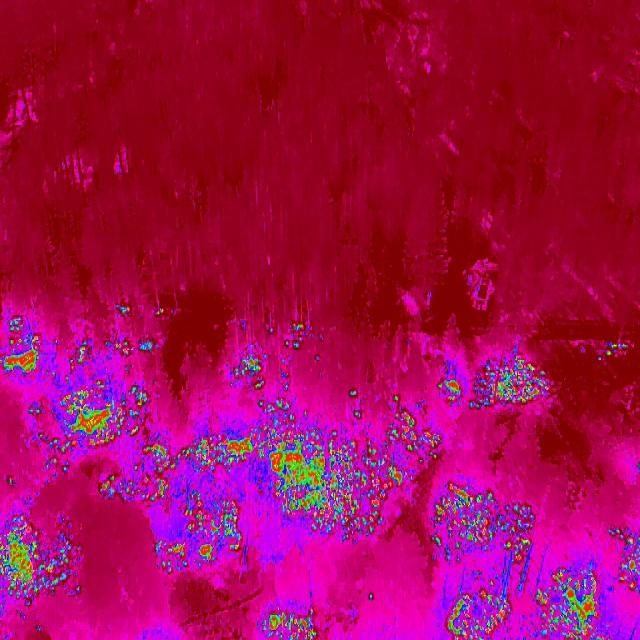fire: (100, 394, 447, 574), (30, 377, 153, 468), (434, 472, 550, 568), (0, 514, 84, 618), (232, 318, 318, 394), (468, 348, 564, 412), (530, 560, 604, 638), (438, 578, 518, 638), (66, 334, 162, 376), (0, 311, 43, 380), (606, 517, 640, 599), (256, 602, 324, 640), (589, 338, 640, 364), (438, 373, 466, 407), (110, 299, 135, 323), (149, 304, 172, 322)
